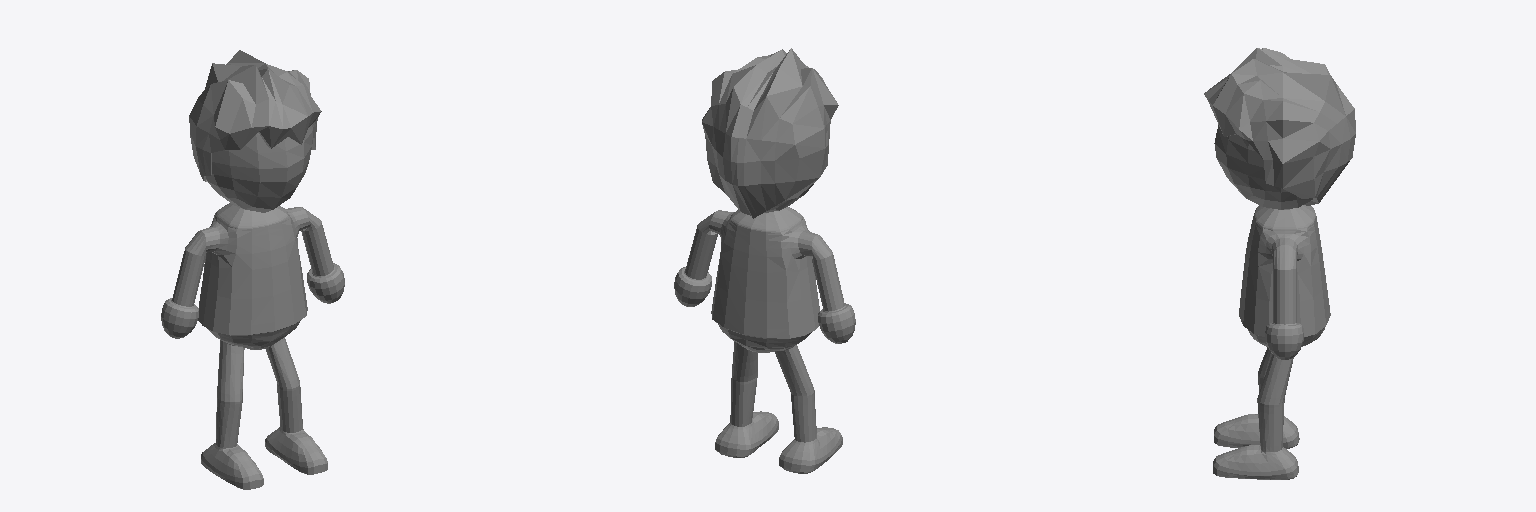
Rendered from childrens_toy.obj.
3 renders of one model, left to right at view 1: azimuth 30°, elevation 25°; view 2: azimuth 150°, elevation 25°; view 3: azimuth 270°, elevation 25°, orthographic.
Parts seen in each view (by area): view 1: Mii; view 2: Mii; view 3: Mii.
Boxes of the visible parts, x1=… form: Mii: x1=161, y1=50, x2=344, y2=489; Mii: x1=674, y1=48, x2=855, y2=473; Mii: x1=1204, y1=48, x2=1355, y2=479.
Size of the model in its own units: 139 by 302 by 103.